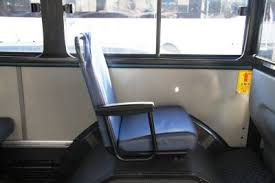seat: (86, 55, 197, 157)
